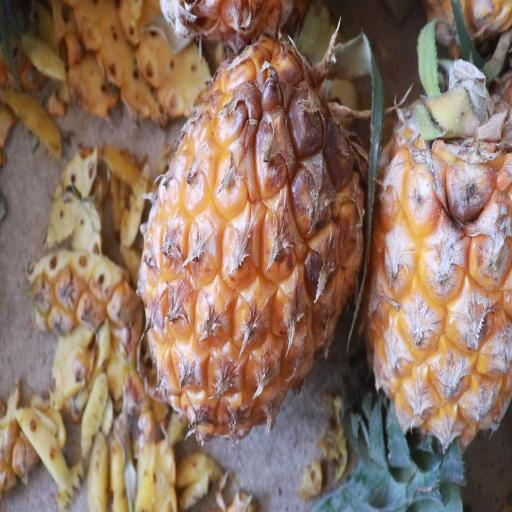Pineapple - v8 v1: (137, 32, 367, 448), (361, 46, 512, 461)
